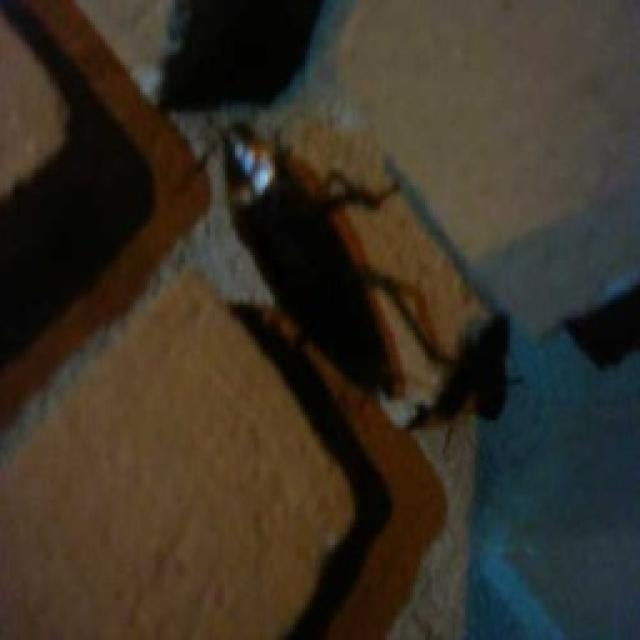cockroach: (201, 109, 422, 411)
